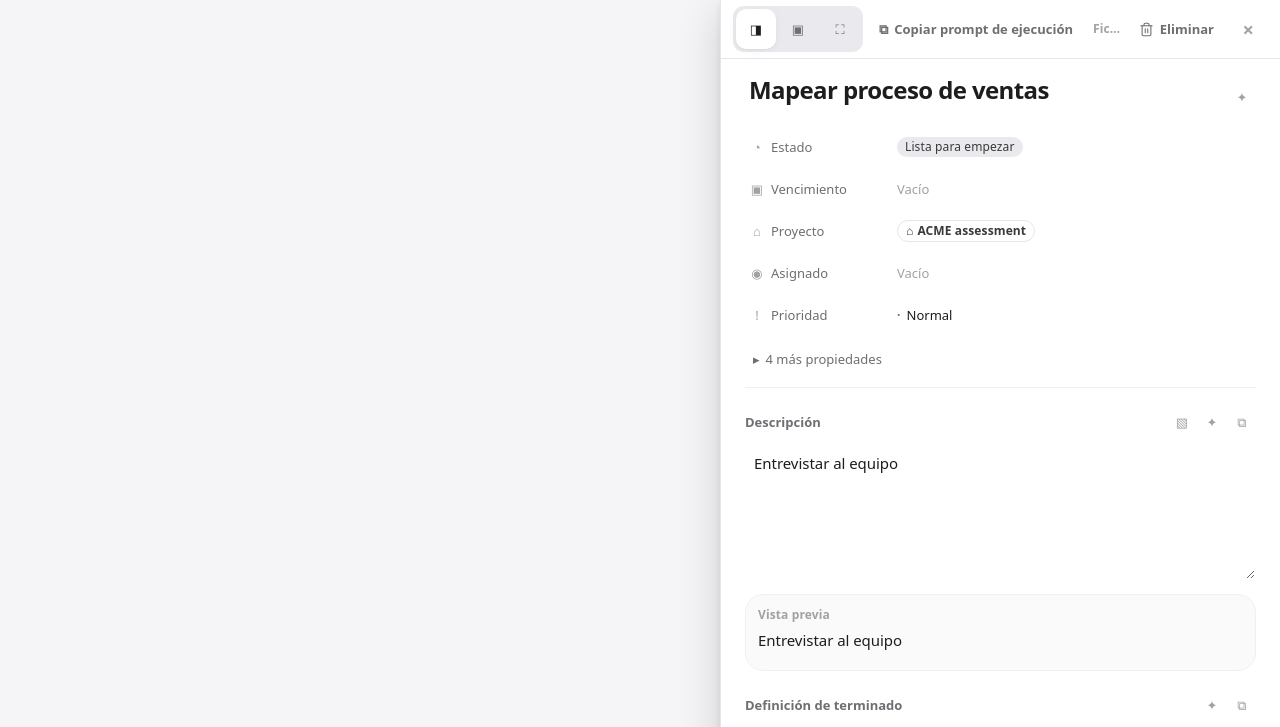
Test: propiedades inline › un 409 relee la tarea y reabre el popover con el valor nuevo
Click the button with test id "prop-priority" at (930, 315), box [889,295,1256,335]
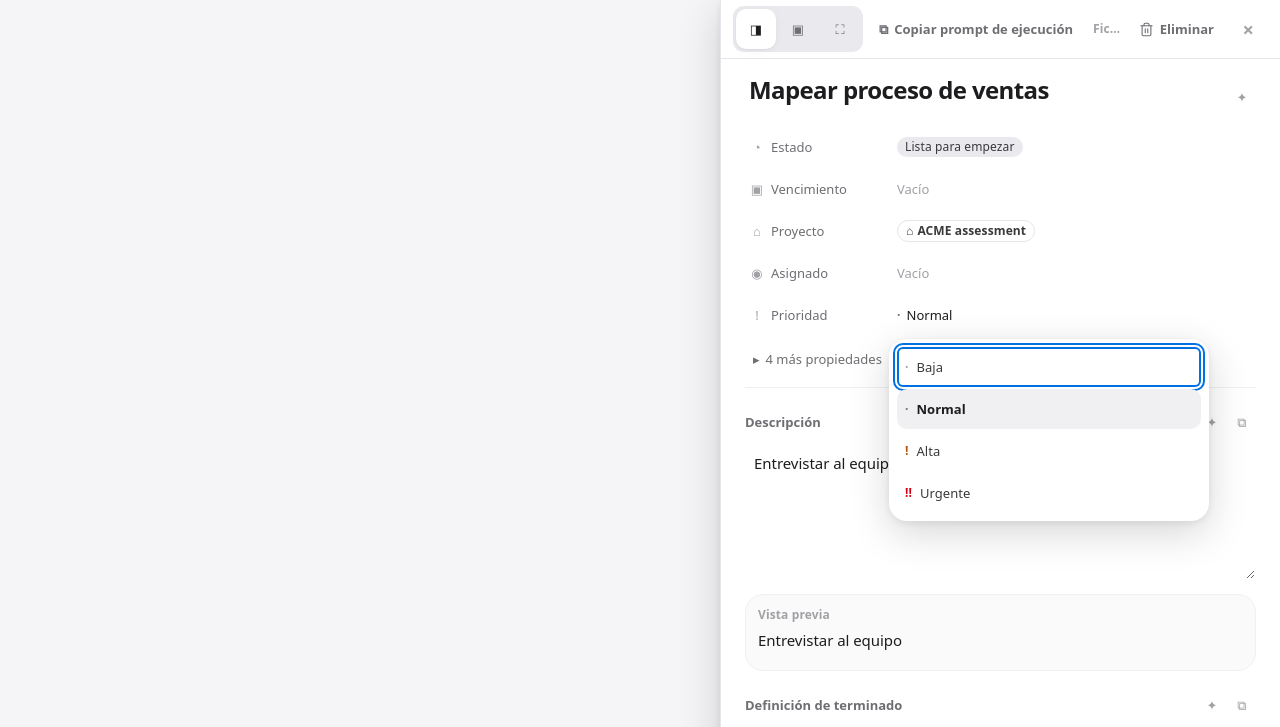
Click the option with test id "priority-option-high" at (907, 451), box [897,431,1201,471]
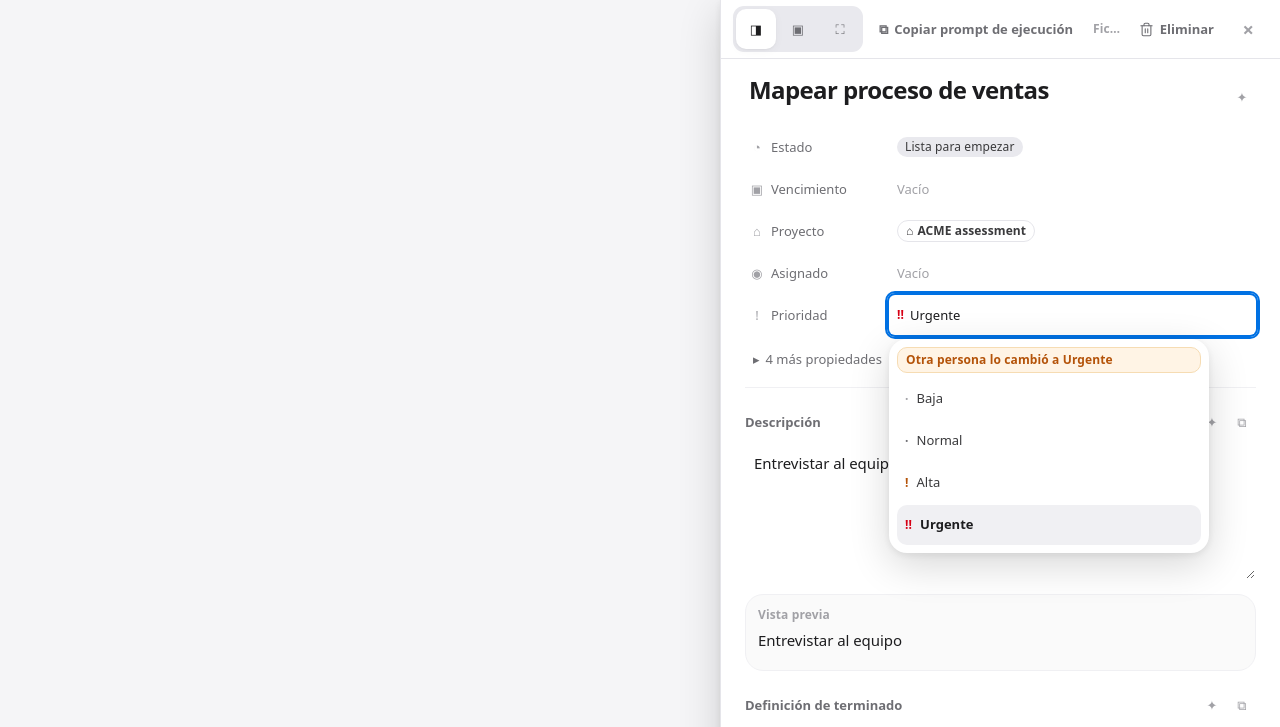
expect the message with test id "prop-priority-notice" reads "Otra persona lo cambió a Urgente": met, box [906,351,1113,368]
expect the button with test id "prop-priority" shows "Urgente": met, box [889,295,1256,335]
